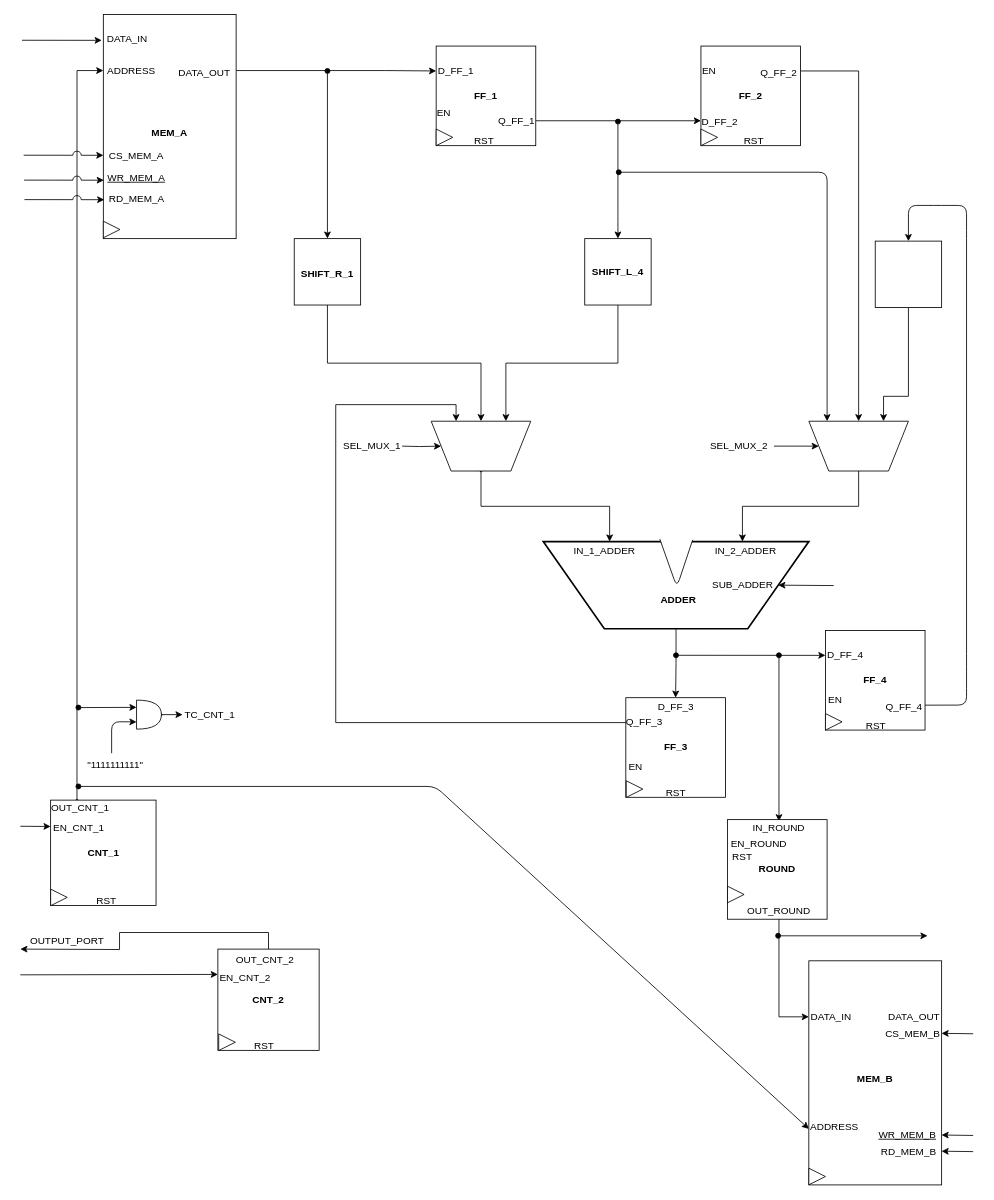
The diagram is 994 pixels wide and 1200 high, and some of its shapes have lost their labels. The shapes that lost their labels are listed below. From the top down, each one's centre as x and y in pixels, then its label:
pixel 908 274: SHIFT_R_2
pixel 480 445: MUX_1
pixel 858 445: MUX_2
